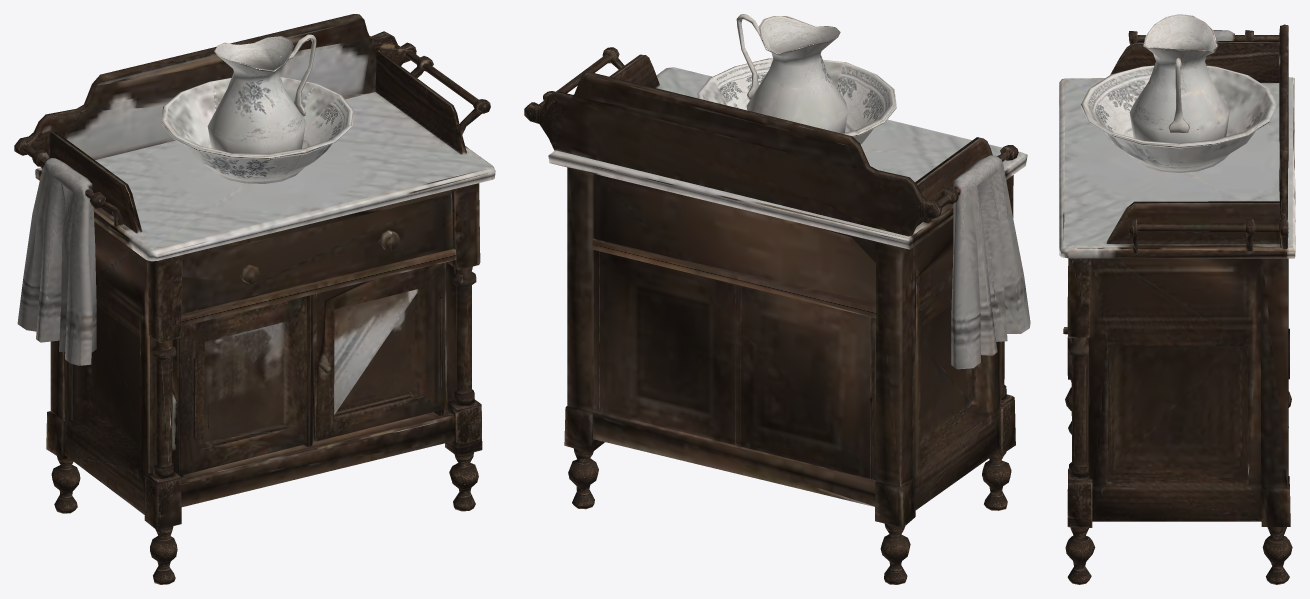
File: washstand.glb
3 views of the same model, side by side, from view 1: azimuth 30°, elevation 25°; view 2: azimuth 150°, elevation 25°; view 3: azimuth 270°, elevation 25° (orthographic). The views are drawn at different scales.
Size of the model in its own units: 1.08 by 1.15 by 0.5238.
Materials: 1 (1 with a texture image).
